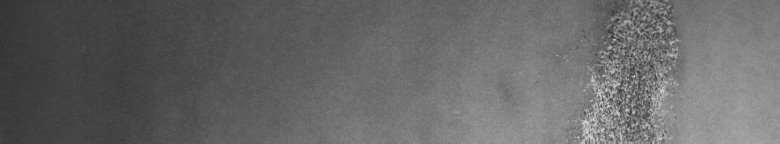hc: (566, 4, 681, 136)
